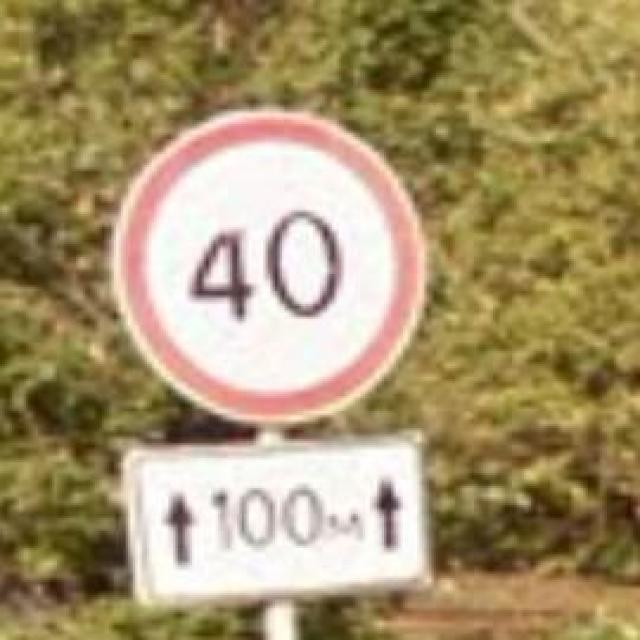traffic_sign: (109, 109, 427, 426)
